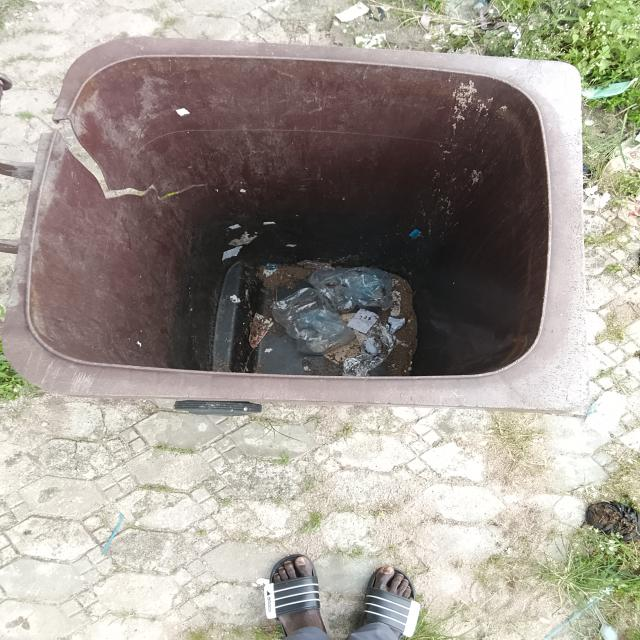empty: (25, 25, 579, 400)
